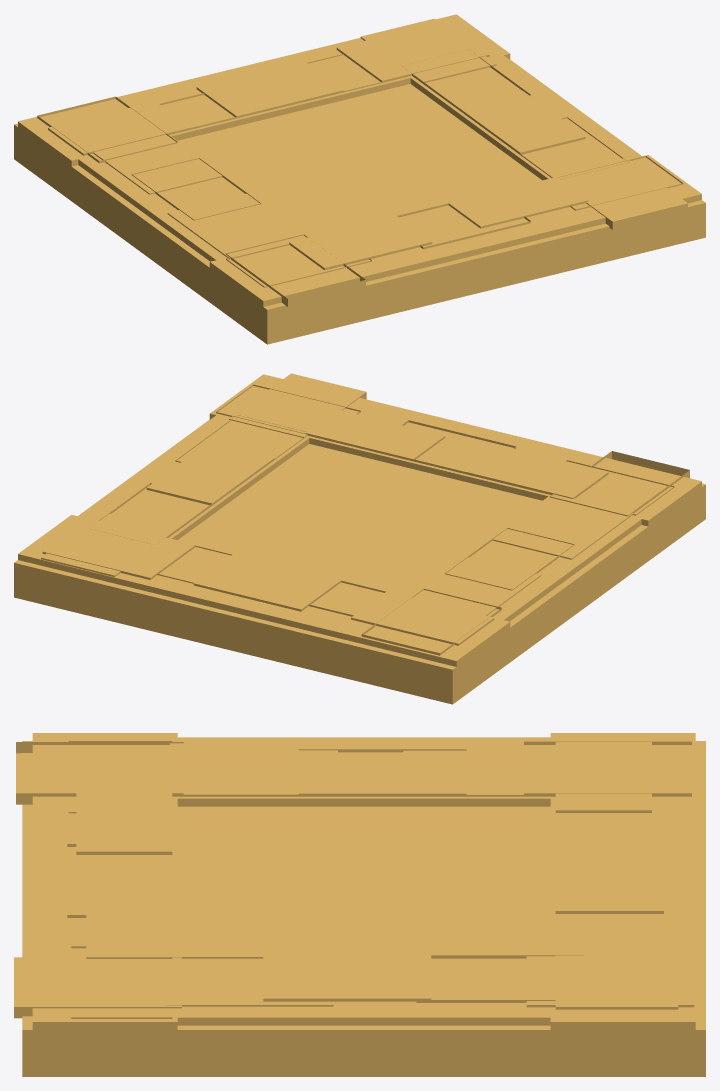
File: sub_sand.obj
3 views of the same model, one above another, from view 1: azimuth 30°, elevation 25°; view 2: azimuth 150°, elevation 25°; view 3: azimuth 270°, elevation 25° (orthographic). The views are drawn at different scales.
Parts seen in each view (by area): view 1: sub_sand; view 2: sub_sand; view 3: sub_sand.
Boxes of the visible parts, box(x1,y1,x2,y2) form: sub_sand: box(14, 14, 705, 344); sub_sand: box(14, 373, 705, 704); sub_sand: box(14, 733, 705, 1076).
Bounding box in the file's own units: 66 × 6.19 × 66.79.
